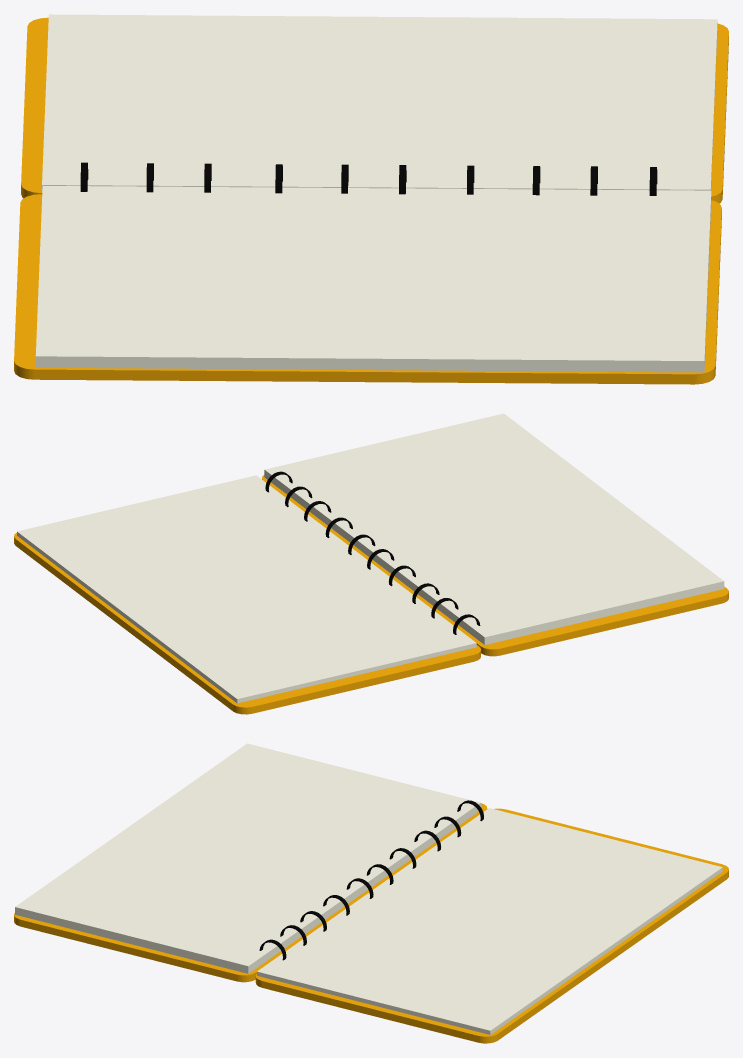
Rendered from MotherNote.fbx.
3 renders of one model, top to bottom at view 1: azimuth 30°, elevation 25°; view 2: azimuth 150°, elevation 25°; view 3: azimuth 270°, elevation 25°, orthographic. The views are drawn at different scales.
Visible parts, largest first — view 1: pCube158, pCube157, pCube159, pCube156; view 2: pCube158, pCube157, pCube156, pCube159; view 3: pCube158, pCube157, pCube156, pCube159.
Boxes of the visible parts, x1,y1,x2,y2 form: pCube158: [35, 185, 711, 372]; pCube157: [42, 14, 717, 190]; pCube159: [14, 194, 721, 384]; pCube156: [21, 17, 728, 203]; pCube158: [264, 413, 724, 644]; pCube157: [17, 475, 476, 703]; pCube156: [14, 532, 480, 714]; pCube159: [262, 475, 728, 656]; pCube158: [15, 743, 480, 973]; pCube157: [257, 808, 722, 1034]; pCube156: [255, 808, 728, 1043]; pCube159: [14, 803, 487, 982].
Bounding box in the file's own units: 49.85 × 2.17 × 52.06.
